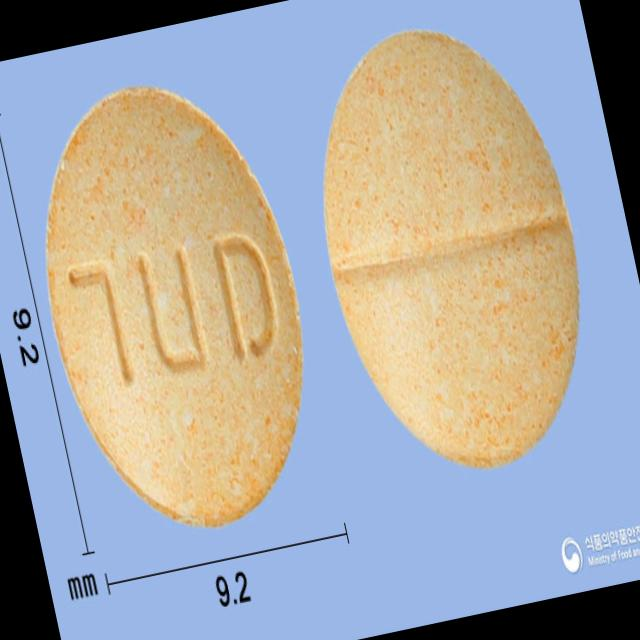Doxymedi: (8, 61, 342, 554)
